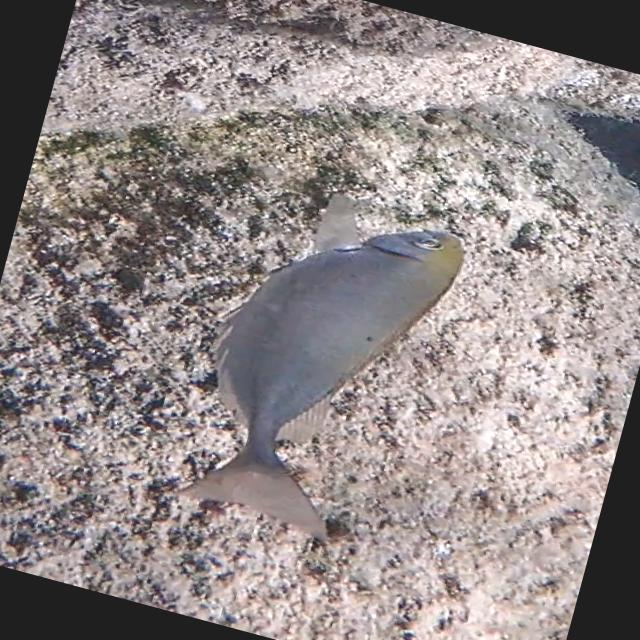Sokar Baligi: (146, 166, 492, 567)
